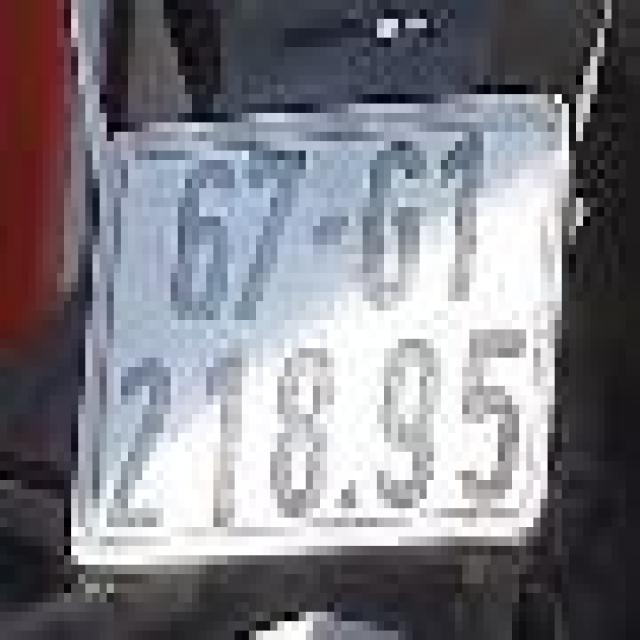1: (196, 344, 260, 532), (434, 122, 491, 310)
2: (103, 353, 174, 532)
5: (452, 315, 530, 513)
6: (170, 150, 234, 330)
7: (238, 136, 310, 324)
8: (266, 338, 338, 518)
9: (370, 330, 448, 508)
G: (352, 127, 437, 325)
